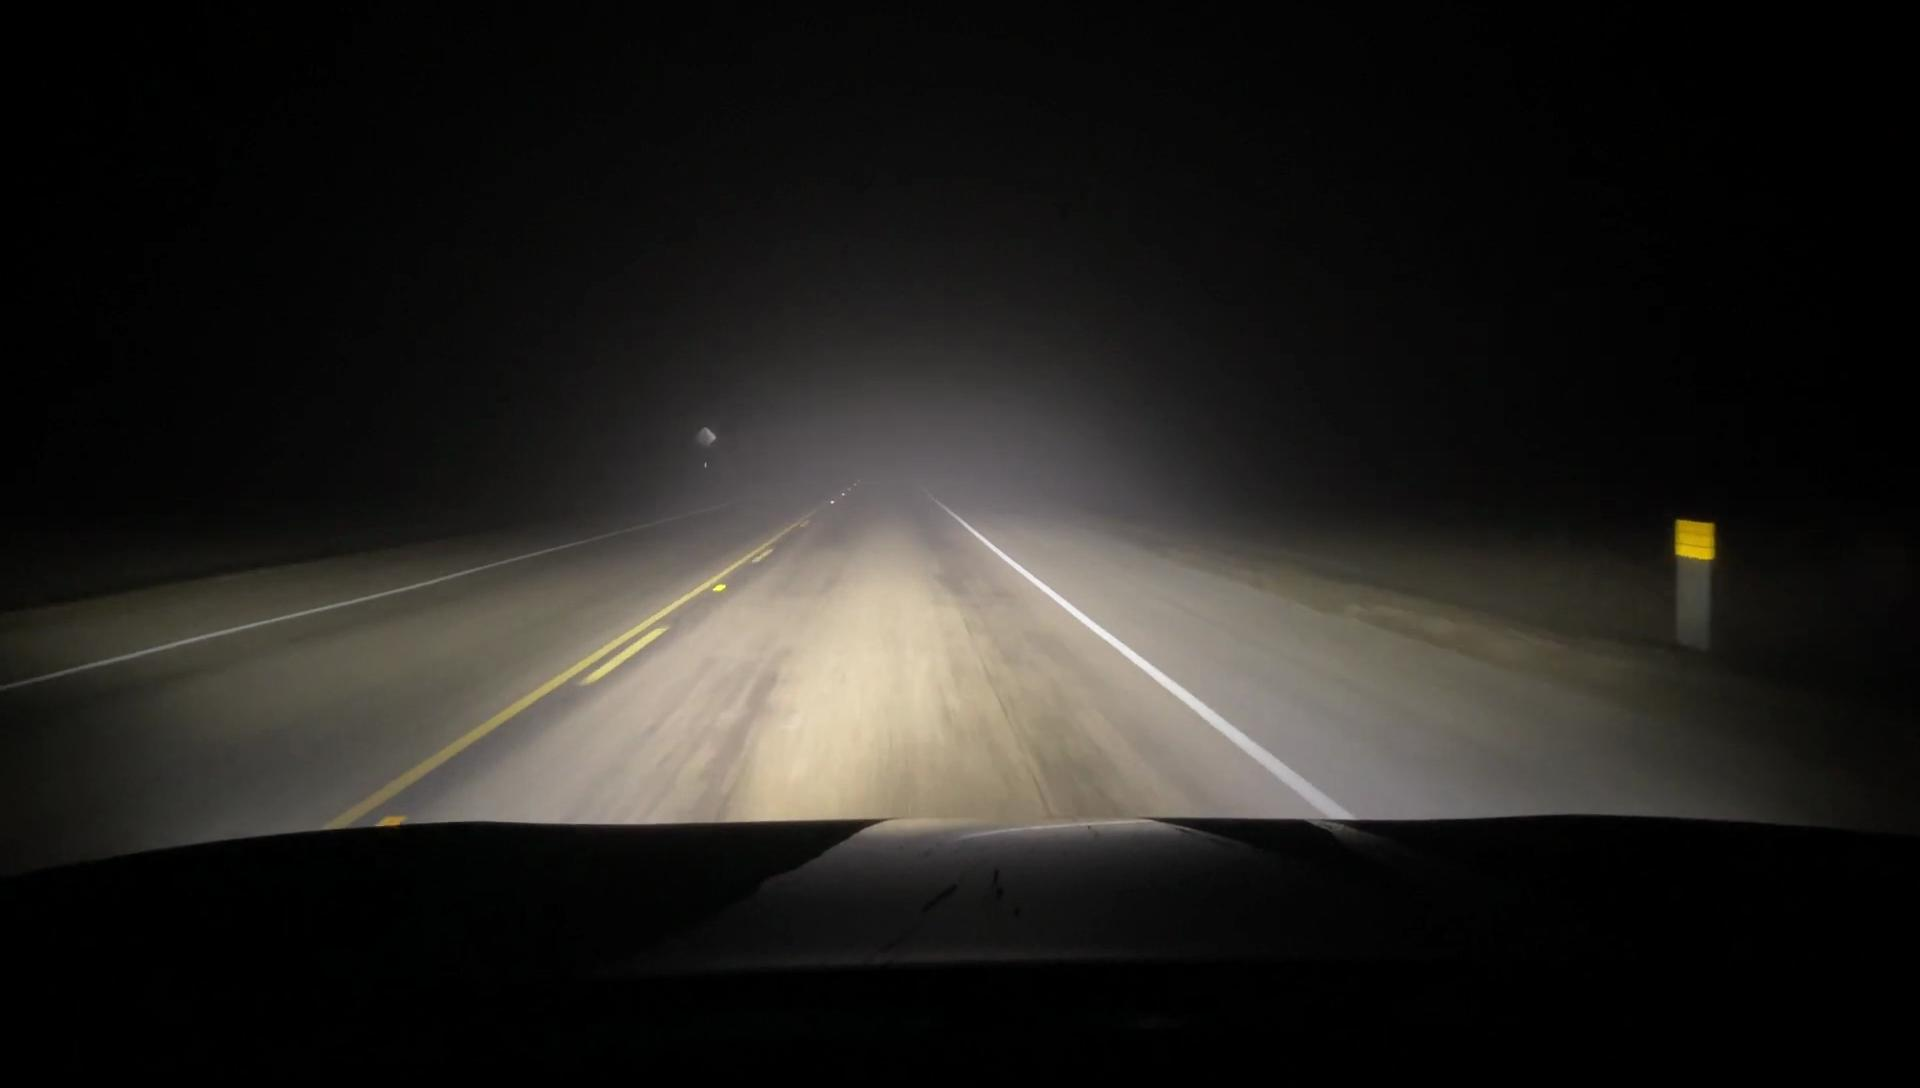road-lanes: (425, 497, 1319, 815)
